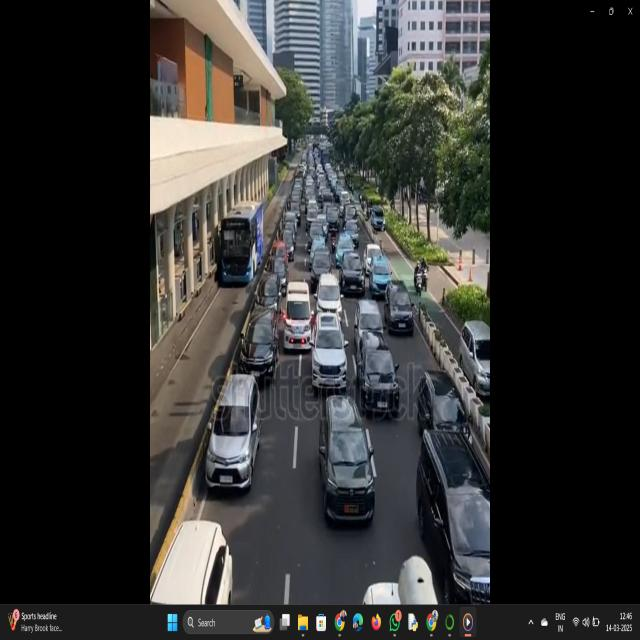Ambulance: (281, 277, 312, 352)
